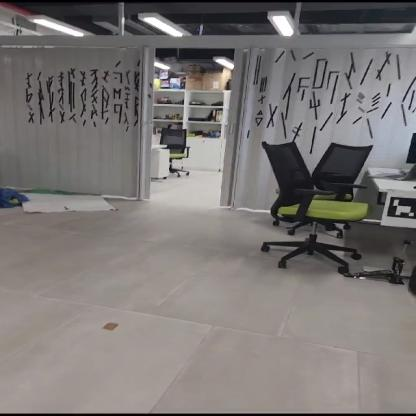open: (140, 49, 238, 199)
